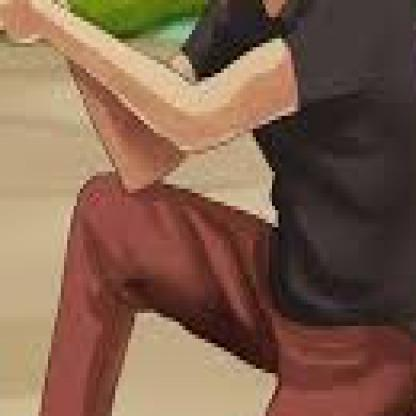gun: (0, 0, 71, 35)
